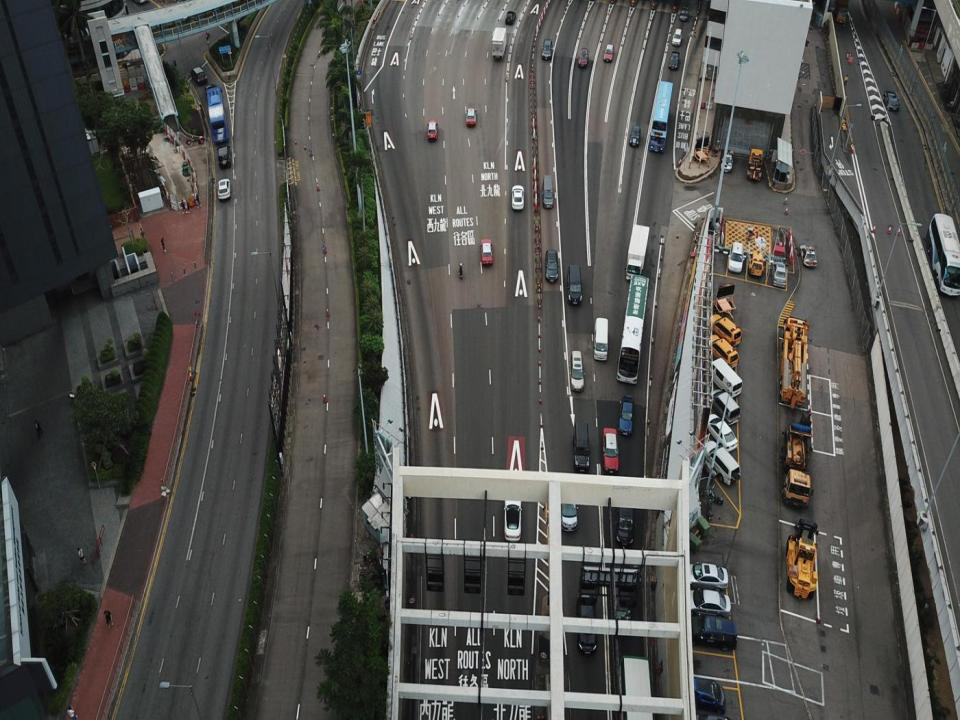bus: (616, 274, 648, 384), (925, 213, 960, 297), (618, 655, 652, 719), (648, 81, 673, 153), (835, 0, 848, 24)
car: (687, 588, 731, 622), (689, 677, 726, 715), (684, 562, 728, 592), (704, 413, 738, 451), (577, 593, 597, 653), (503, 491, 522, 542), (560, 492, 578, 532), (603, 428, 618, 472), (618, 395, 634, 436), (799, 244, 817, 267), (882, 90, 900, 112), (479, 238, 493, 265), (772, 261, 786, 287), (511, 185, 524, 210), (204, 84, 218, 107), (721, 150, 734, 172), (218, 145, 230, 167), (629, 125, 640, 147), (578, 47, 589, 68), (466, 106, 478, 125), (668, 51, 680, 70), (602, 44, 614, 62), (427, 120, 438, 139), (679, 6, 688, 22), (505, 11, 516, 24)
truck: (780, 408, 812, 508), (779, 316, 810, 409), (626, 225, 650, 280), (746, 148, 763, 182), (492, 28, 507, 58)
van: (691, 616, 737, 651), (705, 441, 740, 486), (708, 358, 742, 398), (611, 574, 633, 633), (708, 389, 740, 426), (709, 314, 742, 347), (706, 334, 738, 368), (615, 498, 636, 546), (572, 422, 590, 472), (569, 351, 586, 391), (593, 317, 608, 360), (566, 264, 582, 304), (728, 242, 746, 272), (544, 250, 560, 282), (541, 174, 554, 208), (749, 252, 764, 277), (191, 67, 207, 85), (217, 178, 230, 200), (541, 38, 553, 60), (672, 28, 682, 46)
